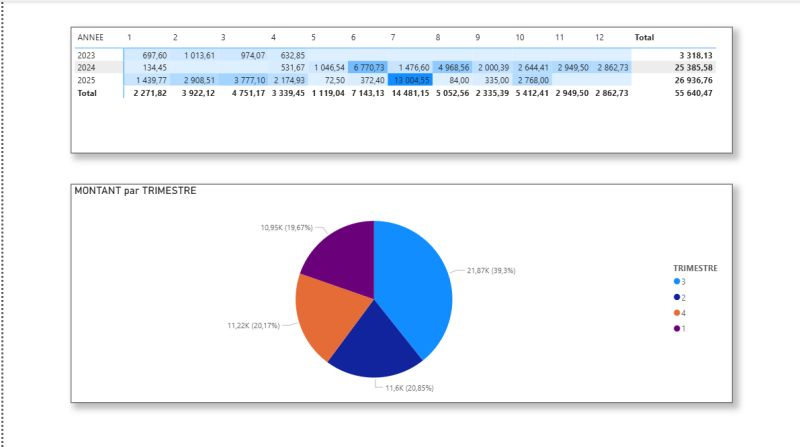

This screenshot's page, from the dashboard's own definition file:
{"tool":"powerbi","page":{"name":"Analyse Temporelle","canvas":[1280,720],"ordinal":2},"visuals":[{"type":"pivotTable","fields":{"Rows":["DIM TEMPS.ANNEE"],"Columns":["DIM TEMPS.MOIS"],"Values":["FAIT VENTES.MONTANT"]},"box":[108.3,41.7,1063.3,203.3],"z":0},{"type":"pieChart","title":"MONTANT par TRIMESTRE","fields":{"Category":["DIM TEMPS.TRIMESTRE"],"Y":["FAIT VENTES.MONTANT"]},"box":[108.3,295,1063.3,351.7],"z":1000}]}

Visuals, with their boxes in screenshot pixels (x1, y1, x2, y2), scaled from the page's 1280x720 canvas onto the 800x447 screenshot:
pivotTable - DIM TEMPS.ANNEE x DIM TEMPS.MOIS: select_region(68, 26, 732, 152)
"MONTANT par TRIMESTRE" pieChart: select_region(68, 183, 732, 401)
